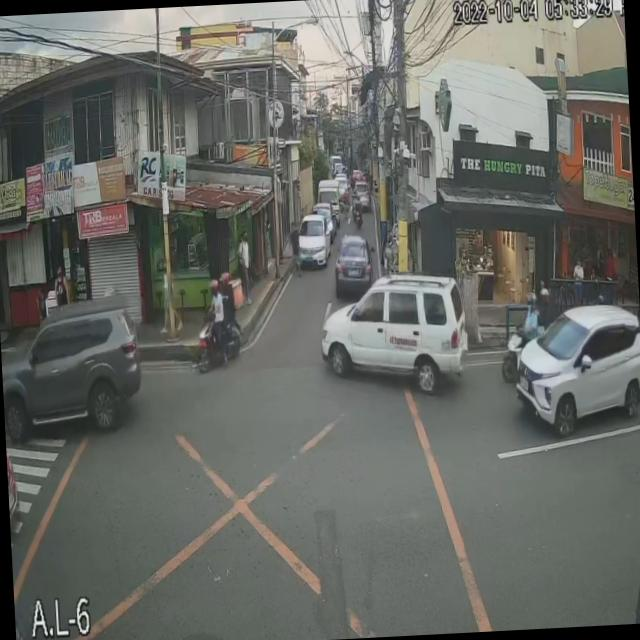half: (208, 279, 220, 301), (220, 268, 232, 290)
